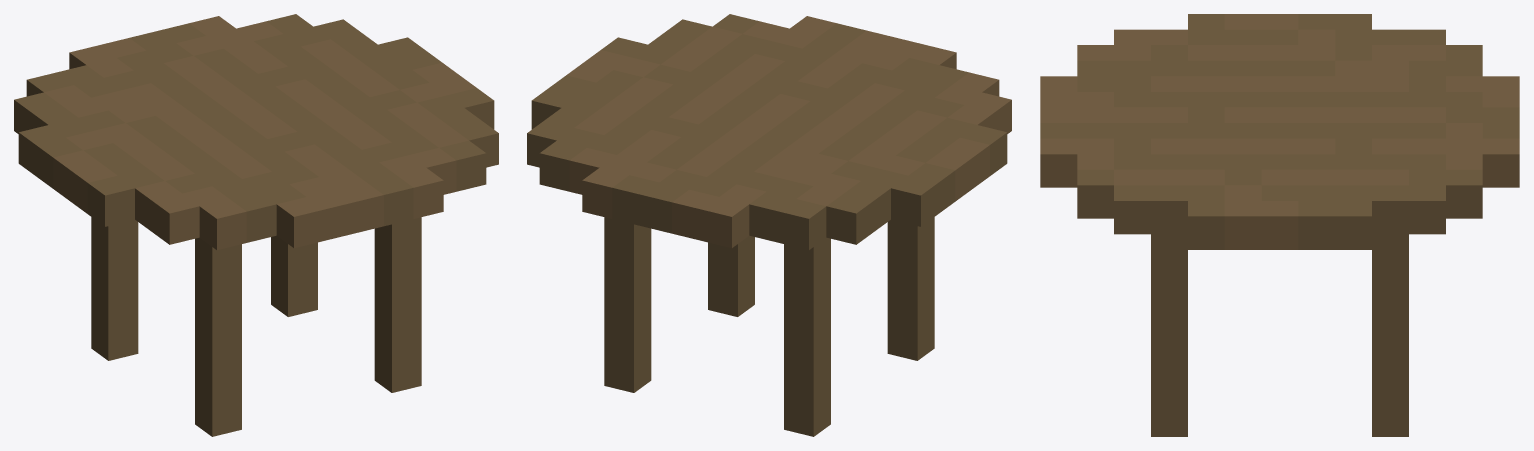
File: Decor-82.obj
The picture shows the model from 3 angles, left to right: view 1: azimuth 30°, elevation 25°; view 2: azimuth 150°, elevation 25°; view 3: azimuth 270°, elevation 25°; orthographic projection. The views are drawn at different scales.
Size of the model in its own units: 1.3 by 0.8 by 1.3.
1 material, 1 textured.
